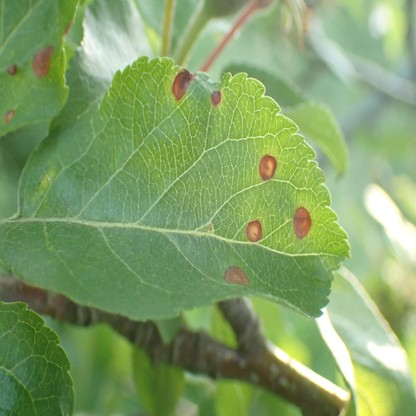frogeye_leaf_spot: (172, 69, 195, 101), (32, 45, 55, 77), (293, 207, 311, 239), (259, 154, 277, 181), (225, 265, 250, 284), (246, 220, 263, 242), (63, 20, 74, 40), (211, 91, 221, 105), (5, 110, 15, 122), (7, 64, 17, 75)
